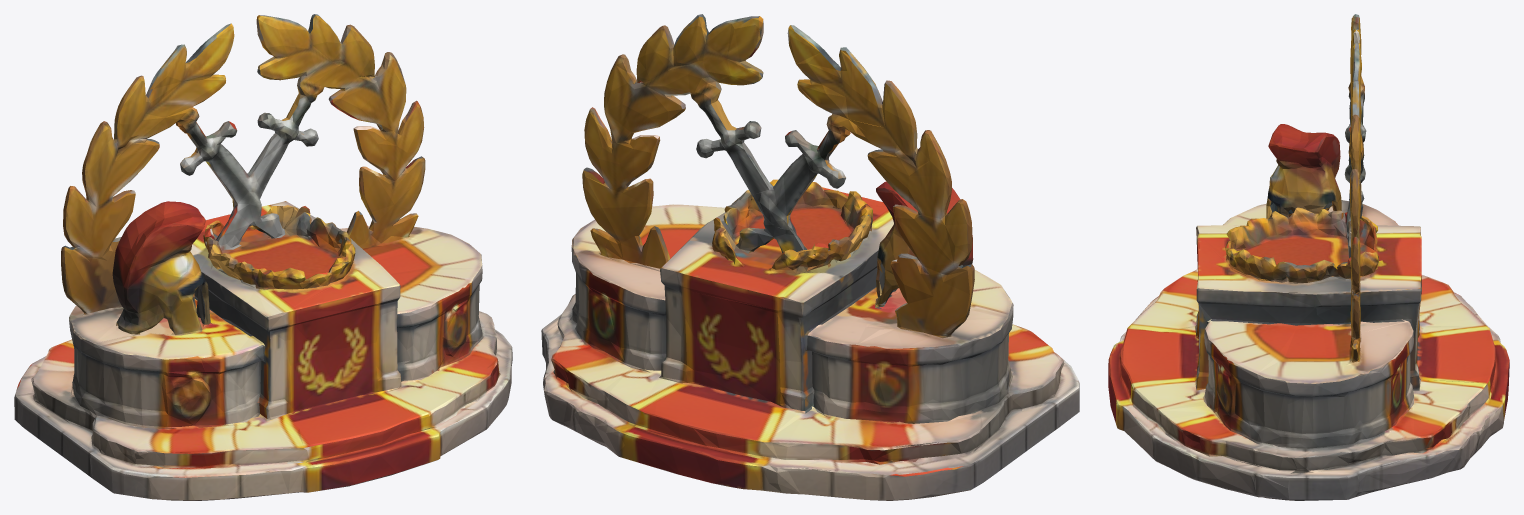
File: arena_trophy_podium_1117.glb
3 renders of one model, left to right at view 1: azimuth 30°, elevation 25°; view 2: azimuth 150°, elevation 25°; view 3: azimuth 270°, elevation 25°, orthographic. The views are drawn at different scales.
Parts seen in each view (by area): view 1: tmpkaufcjhm.ply; view 2: tmpkaufcjhm.ply; view 3: tmpkaufcjhm.ply.
Part boxes in pixels (x1=…): tmpkaufcjhm.ply: x1=14, y1=14, x2=512, y2=500; tmpkaufcjhm.ply: x1=541, y1=14, x2=1079, y2=500; tmpkaufcjhm.ply: x1=1108, y1=14, x2=1509, y2=500.
Size of the model in its own units: 1.99 by 1.62 by 1.64.
Materials: 1 (1 with a texture image).
